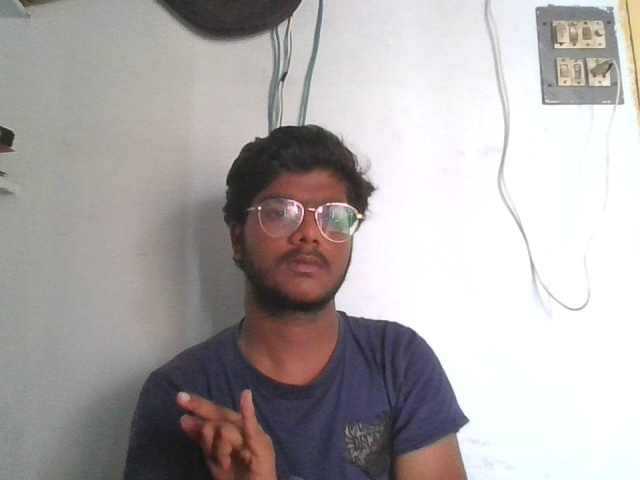IloveYou: (176, 383, 273, 480)
